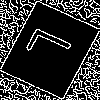L: (25, 25, 82, 71)
